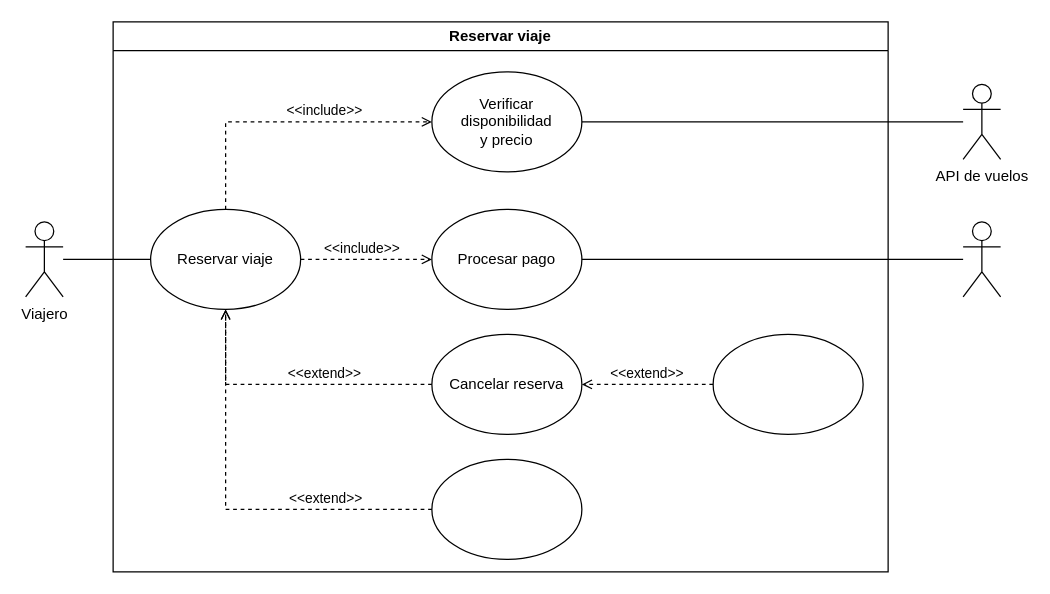
This 1050x594 diagram has some shape labels left out. Each missing label, with the box of its shape:
API de pagos: (962, 221, 1001, 297)
Consultar reserva: (431, 458, 582, 559)
Solicitar reembolso: (712, 333, 863, 434)
